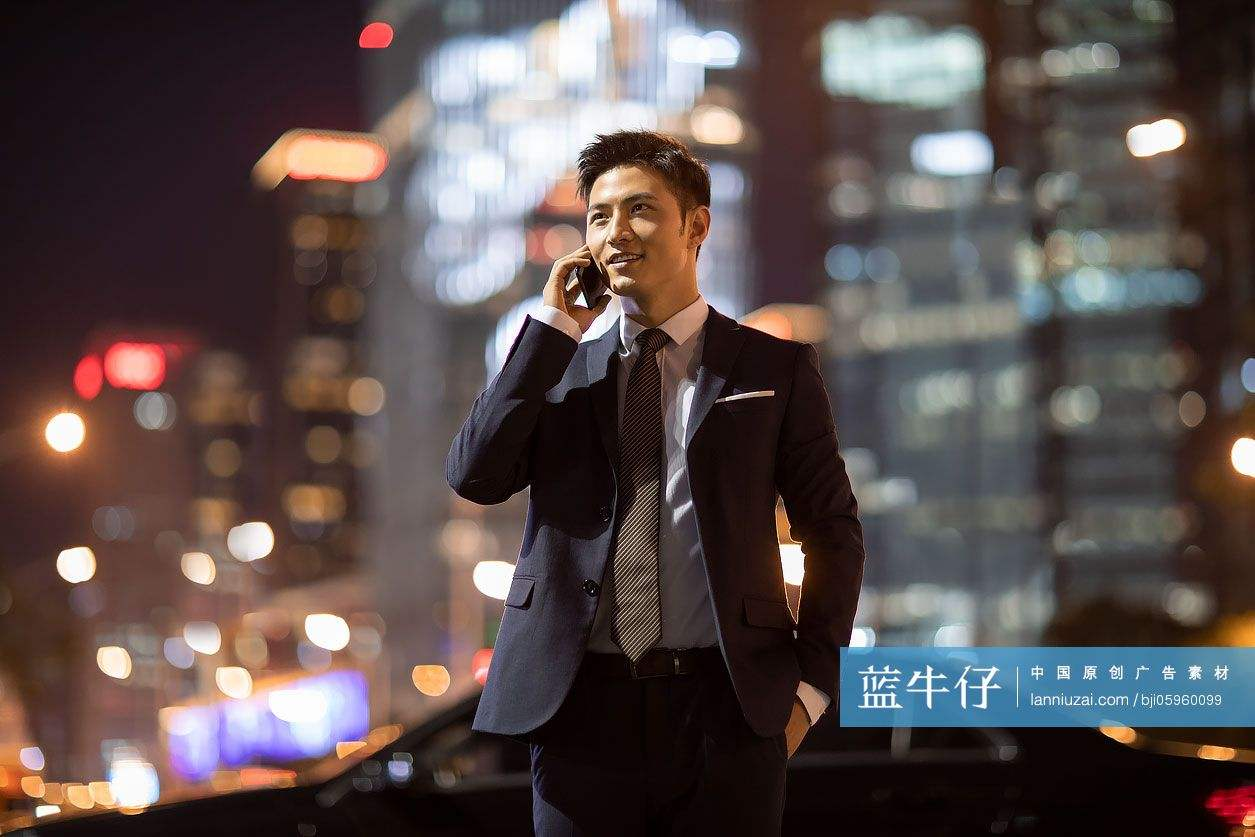calling: (540, 241, 614, 337)
